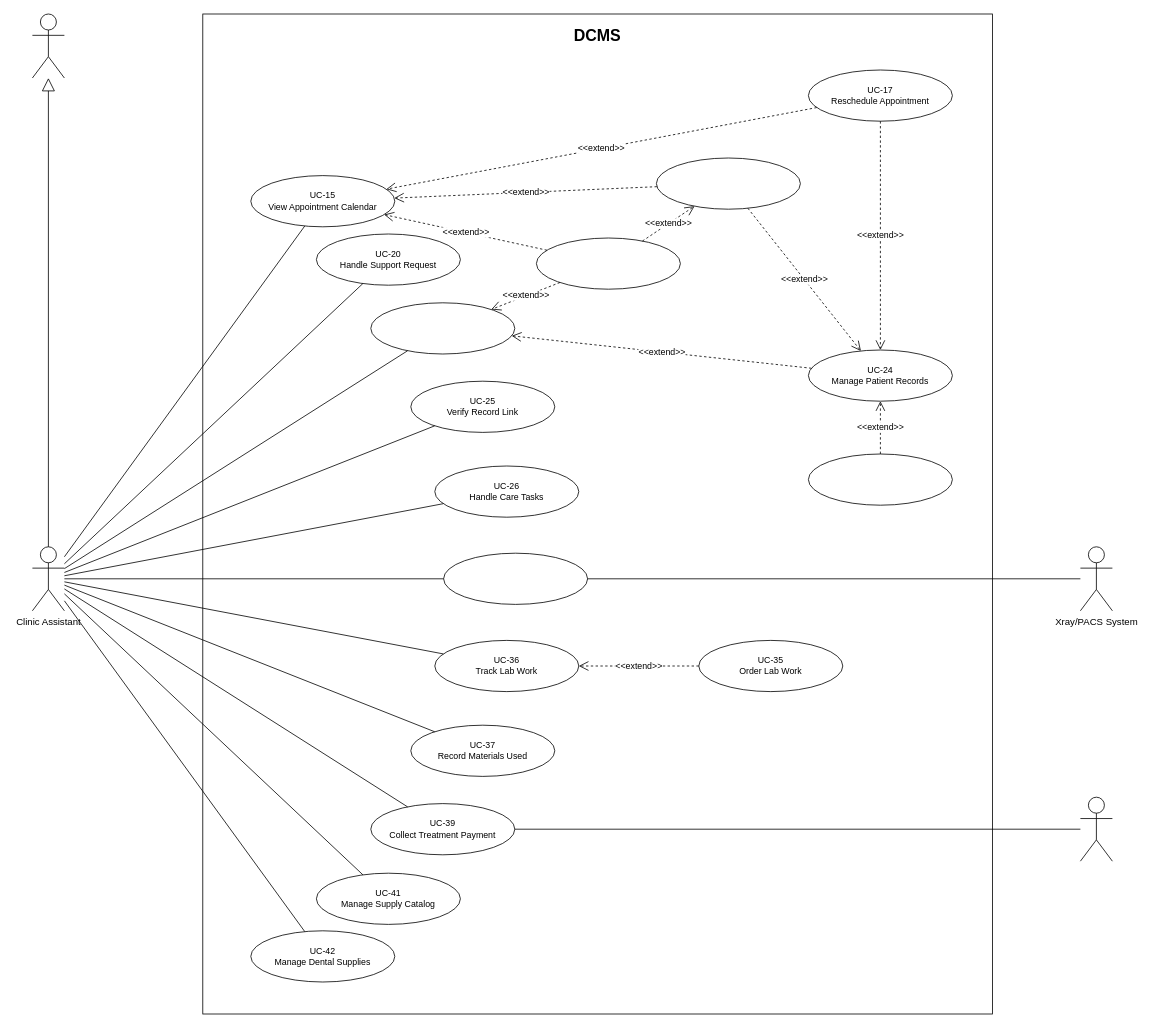
Some shapes in this 1151 by 1028 pixel diagram are drawn without their labels. The box of each missing label's shape, as (x1, y1, x2, y2) in pixels:
Payment Gateway: (1080, 796, 1112, 861)
Registered User: (32, 13, 64, 78)
UC-16 Book Appointment for a Patient: (536, 237, 680, 289)
UC-18 Cancel Appointment or Mark No-show: (656, 157, 800, 209)
UC-19 Book Next Visit: (808, 453, 952, 505)
UC-23 Check In Patient: (370, 302, 515, 354)
UC-29 Upload and Review Examination Documents: (443, 552, 588, 604)
